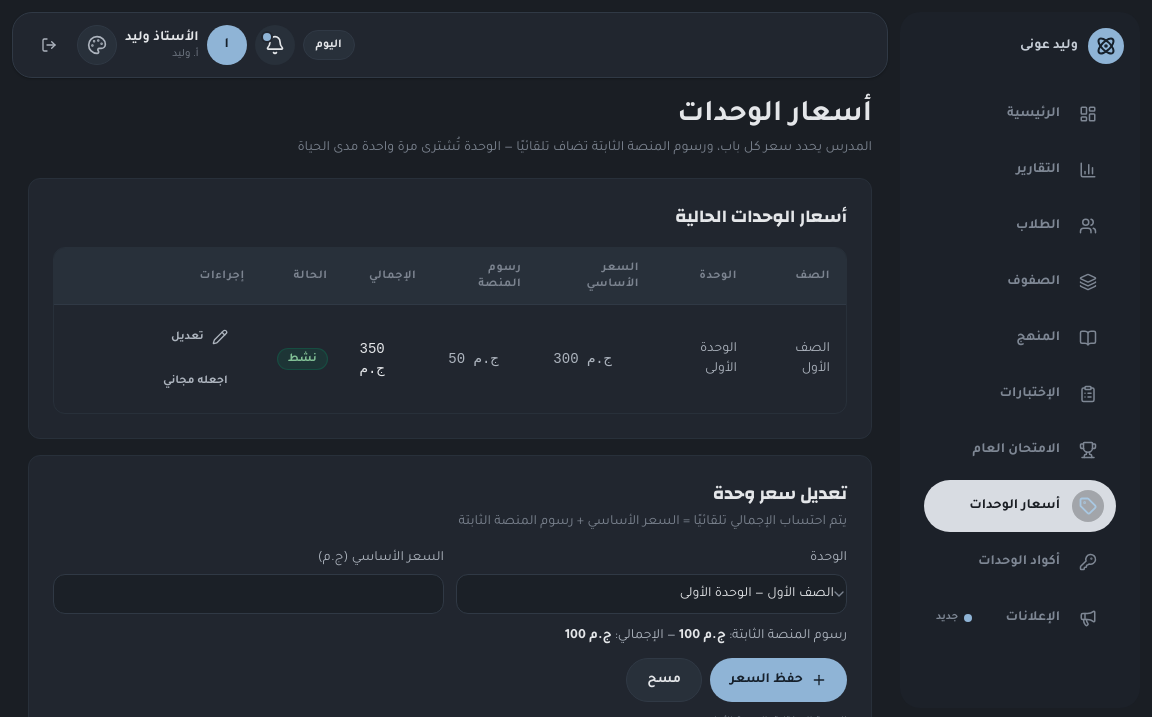
Test case: PricingPage › saves a unit price via set_unit_price (base only) and shows a success toast
This screenshot has width=1152, height=717.
Type "500" into the number field labelled "السعر الأساسي (ج.م)".
click(248, 594); type("500")  # box [53, 574, 444, 614]
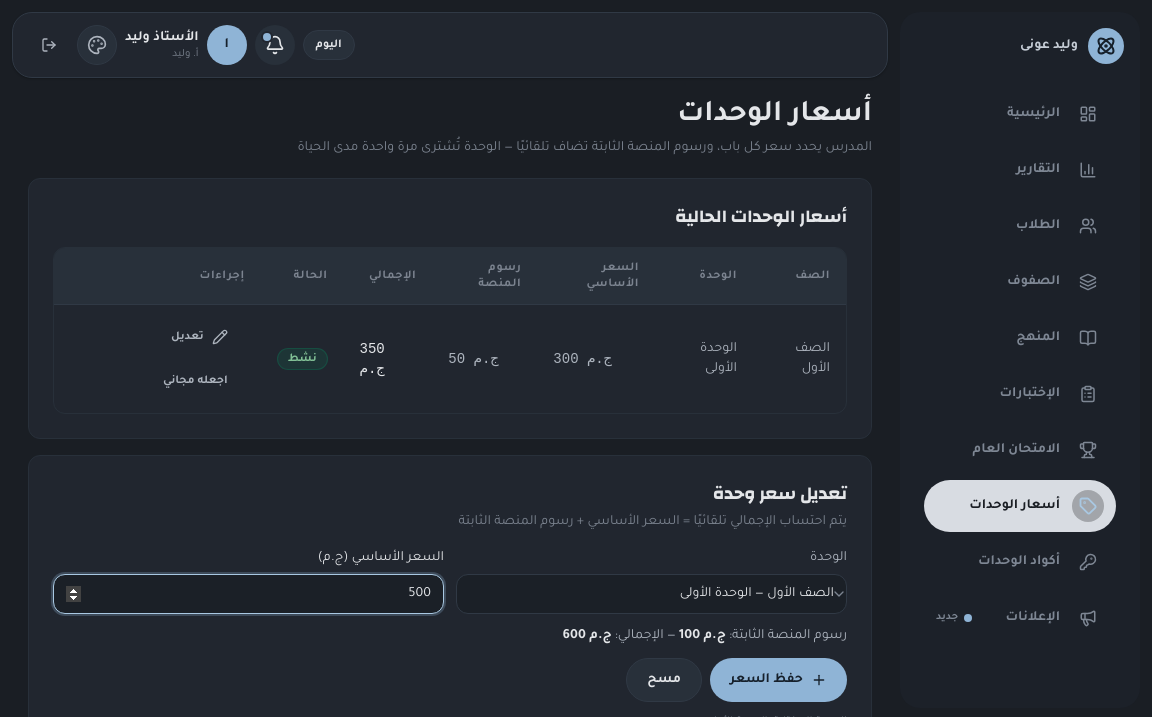
Click the button "حفظ السعر".
click(779, 680)  # box [710, 658, 847, 702]
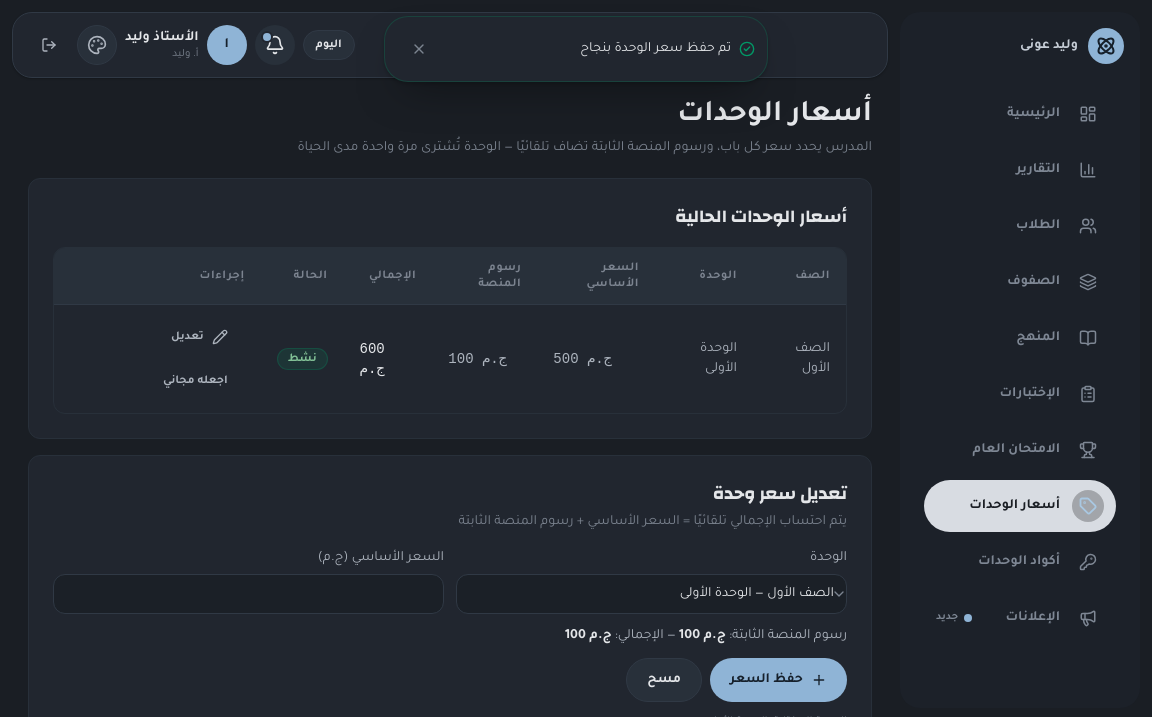
Now the text "تم حفظ سعر الوحدة بنجاح" is shown, box [580, 42, 731, 56]
